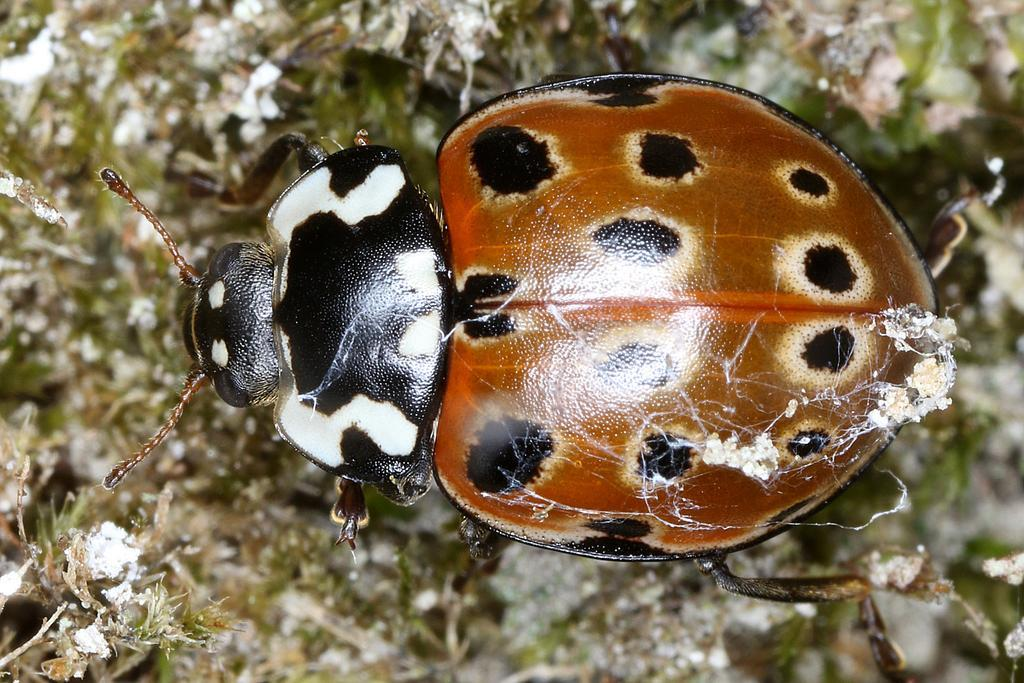ladybug: (101, 69, 947, 683)
